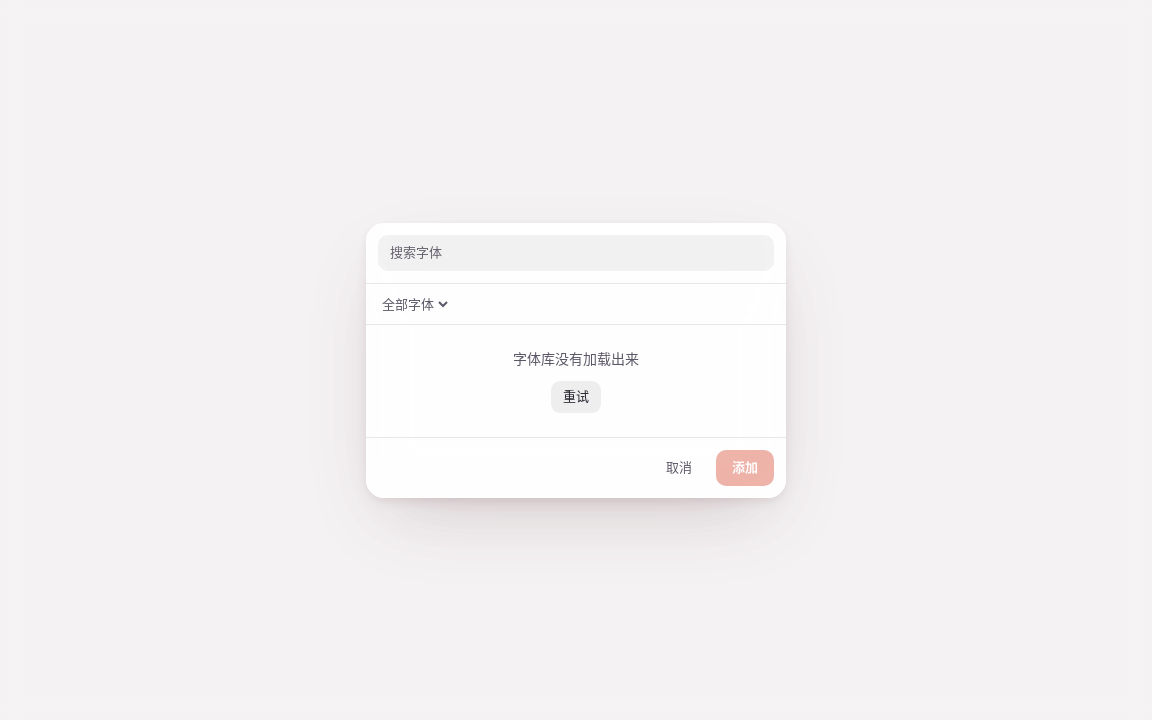
Scenario: FontPickerDialog › says the library did not load, and retries on request
Expected: the text "字体库没有加载出来" is shown, [513,348,639,368]
What coordinates should you click on to do the following:
click the button "重试"
I would click on:
 (576, 396)
Its box is [551,380,601,412].
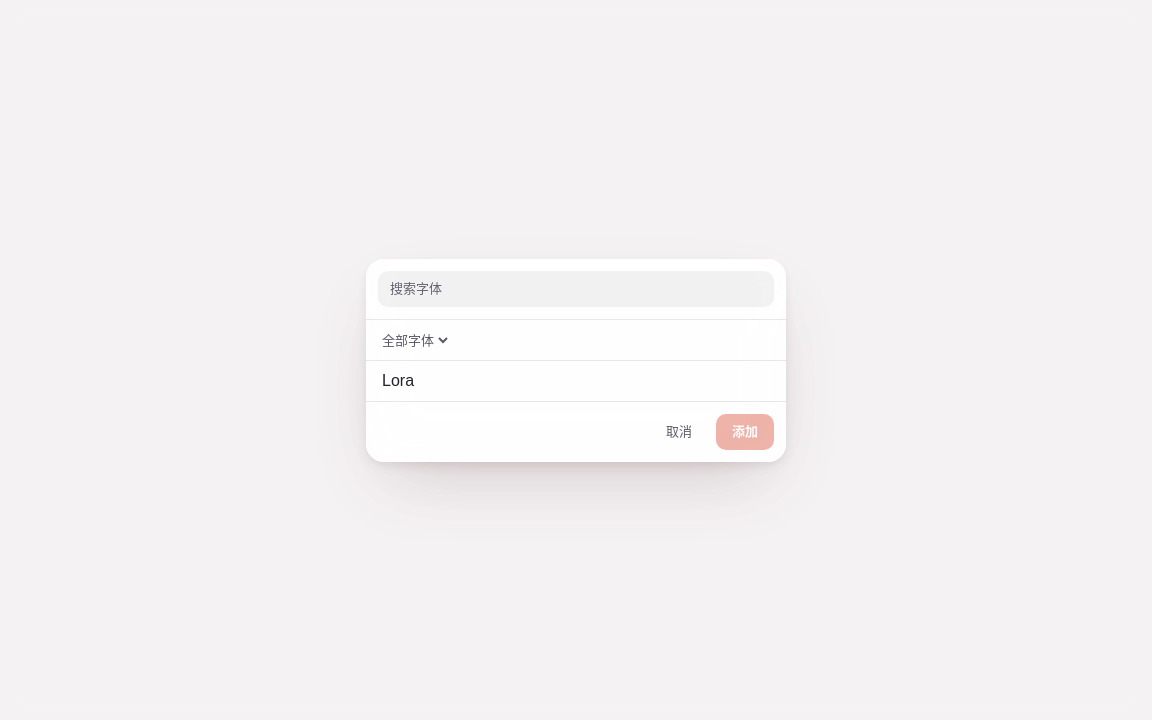
Now the button "Lora" is shown, box [366,360,786,400]
